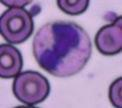N: (32, 20, 92, 78)
